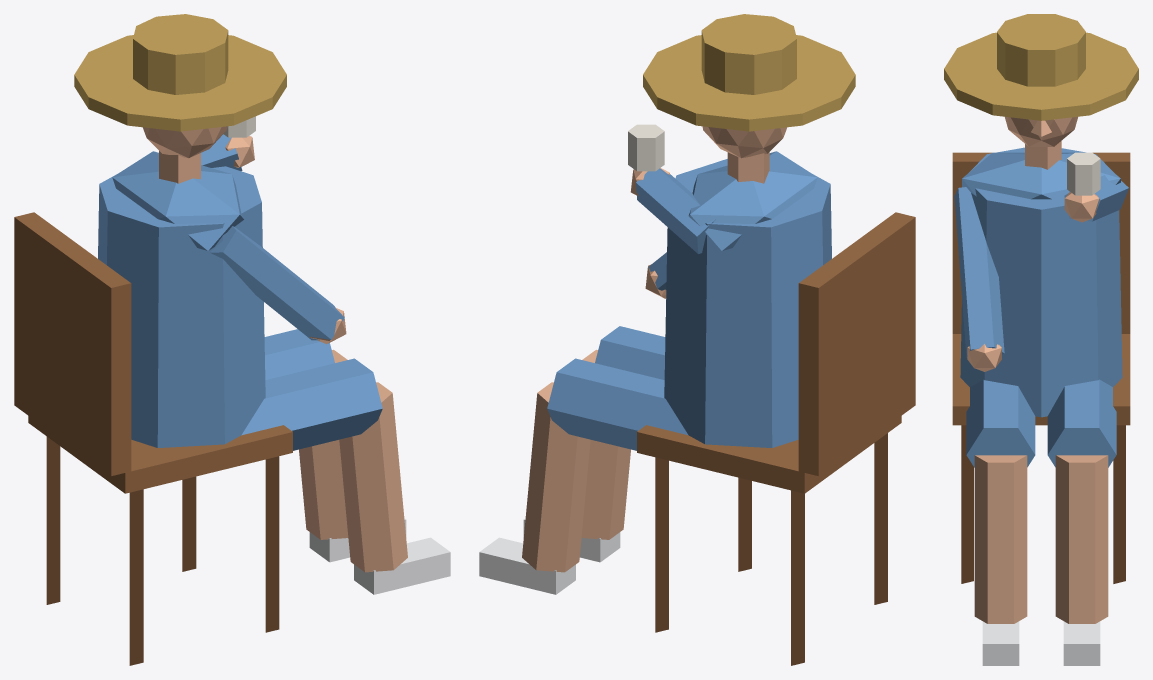
The model's file is fikagast_1.glb.
3 renders of one model, left to right at view 1: azimuth 30°, elevation 25°; view 2: azimuth 150°, elevation 25°; view 3: azimuth 270°, elevation 25°, orthographic. The views are drawn at different scales.
Parts seen in each view (by area): view 1: fikagast_1; view 2: fikagast_1; view 3: fikagast_1.
Part boxes in pixels (bbox=[...]): fikagast_1: bbox=[14, 14, 450, 665]; fikagast_1: bbox=[479, 14, 915, 665]; fikagast_1: bbox=[944, 14, 1138, 665].
Size of the model in its own units: 0.8902 by 1.38 by 0.4608.
